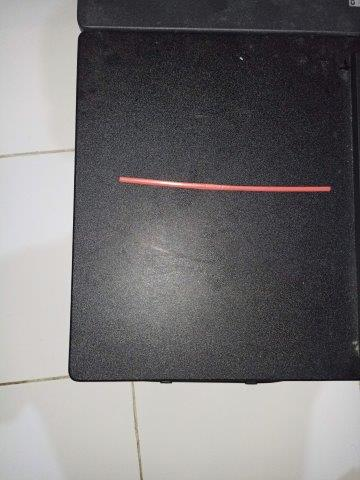sedotan: (119, 176, 330, 193)
